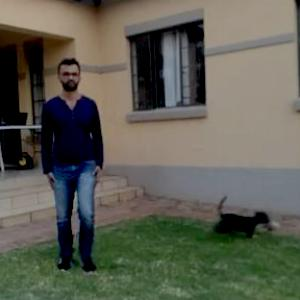follow: (43, 60, 109, 266)
